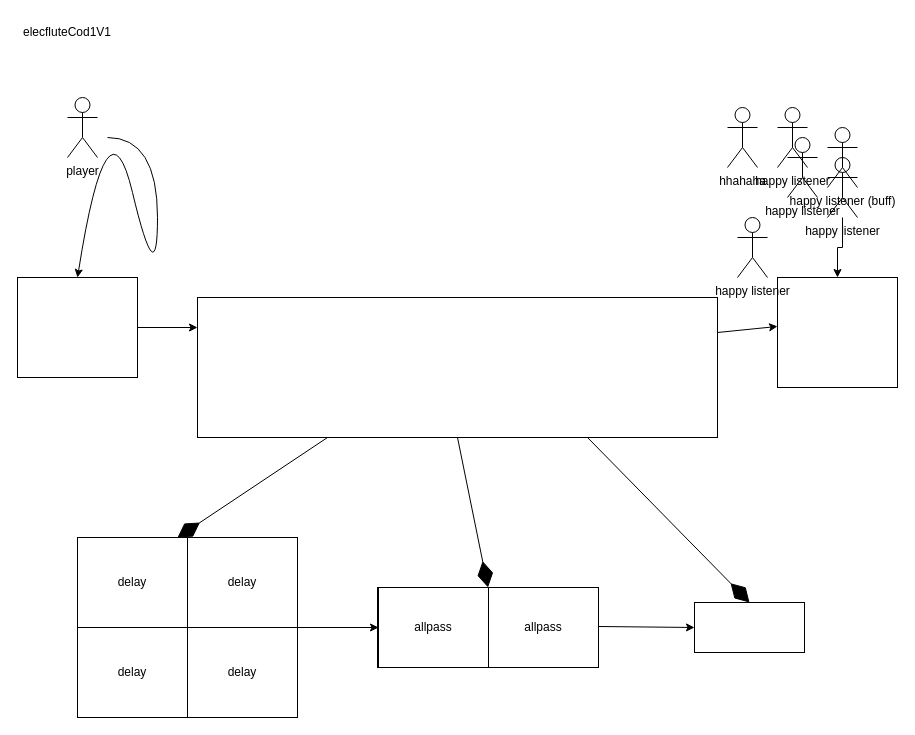
This 915x735 diagram has some shape labels left out. Here are the shapes that lost their labels. From the top down, the box of each, then its label:
(16, 276, 138, 378): Juce audio
(776, 276, 898, 388): Juce output
(196, 296, 718, 438): reverb
(694, 602, 804, 652): onepole
